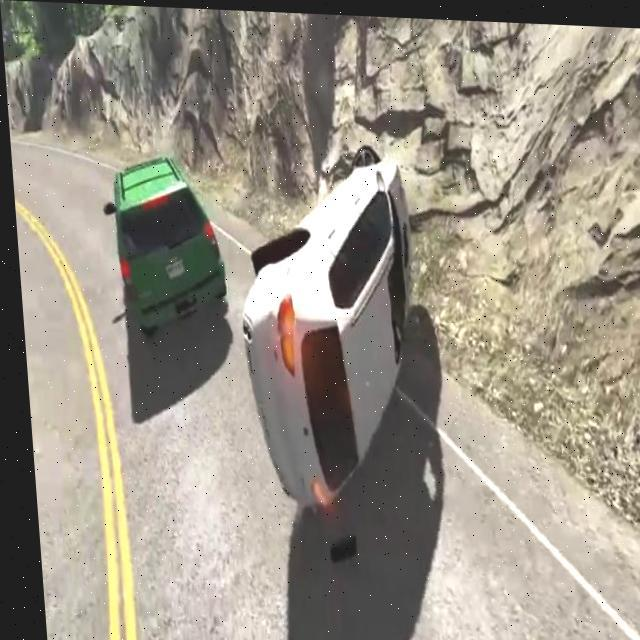multiple_accident: (85, 112, 477, 549)
